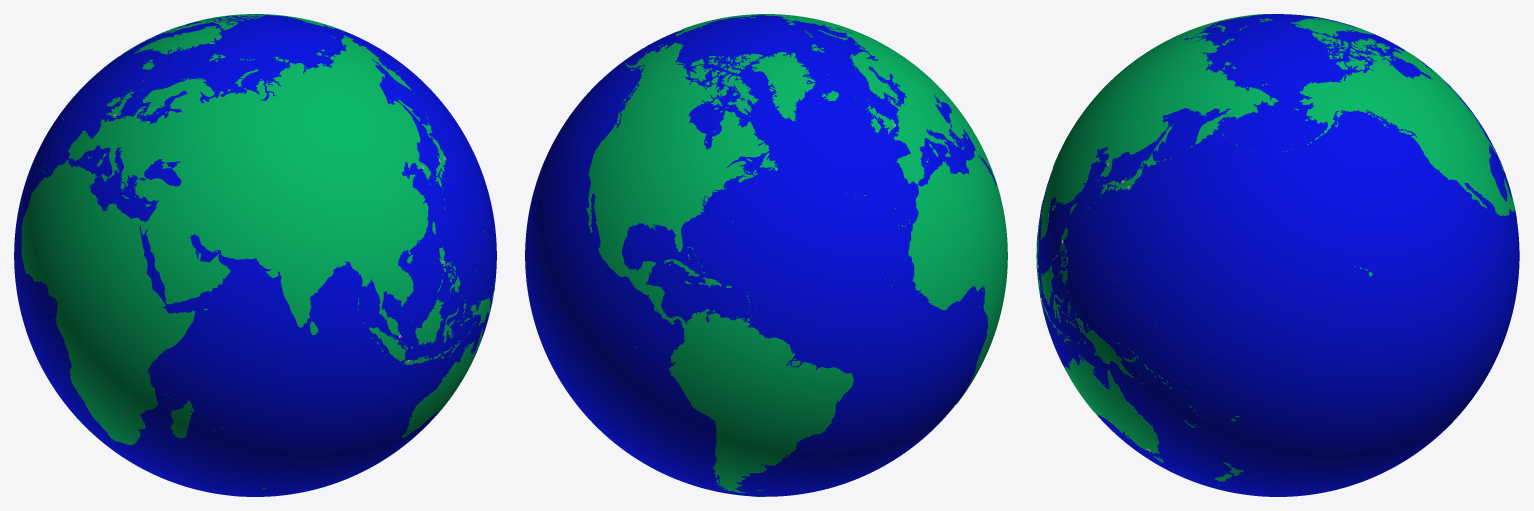
File: globe.glb
The picture shows the model from 3 angles, left to right: view 1: azimuth 30°, elevation 25°; view 2: azimuth 150°, elevation 25°; view 3: azimuth 270°, elevation 25°; orthographic projection.
Parts seen in each view (by area): view 1: Object_2, Object_20, Object_16, Object_12, Object_17, Object_13; view 2: Object_2, Object_19, Object_20, Object_17, Object_15; view 3: Object_2, Object_20, Object_19, Object_16, Object_14, Object_17, Object_13.
Part boxes in pixels (x1=…): Object_2: x1=14, y1=14, x2=496, y2=496; Object_20: x1=21, y1=35, x2=431, y2=445; Object_16: x1=401, y1=327, x2=483, y2=437; Object_12: x1=170, y1=14, x2=458, y2=438; Object_17: x1=134, y1=26, x2=221, y2=54; Object_13: x1=106, y1=91, x2=446, y2=344; Object_2: x1=525, y1=15, x2=996, y2=496; Object_19: x1=586, y1=42, x2=853, y2=490; Object_20: x1=674, y1=14, x2=1007, y2=404; Object_17: x1=751, y1=52, x2=815, y2=121; Object_15: x1=721, y1=74, x2=758, y2=115; Object_2: x1=1037, y1=14, x2=1519, y2=496; Object_20: x1=1037, y1=14, x2=1278, y2=265; Object_19: x1=1299, y1=48, x2=1516, y2=218; Object_16: x1=1064, y1=357, x2=1159, y2=453; Object_14: x1=1076, y1=32, x2=1341, y2=377; Object_17: x1=1290, y1=18, x2=1373, y2=36; Object_13: x1=1041, y1=167, x2=1142, y2=304.
Size of the model in its own units: 2 by 2 by 2.
